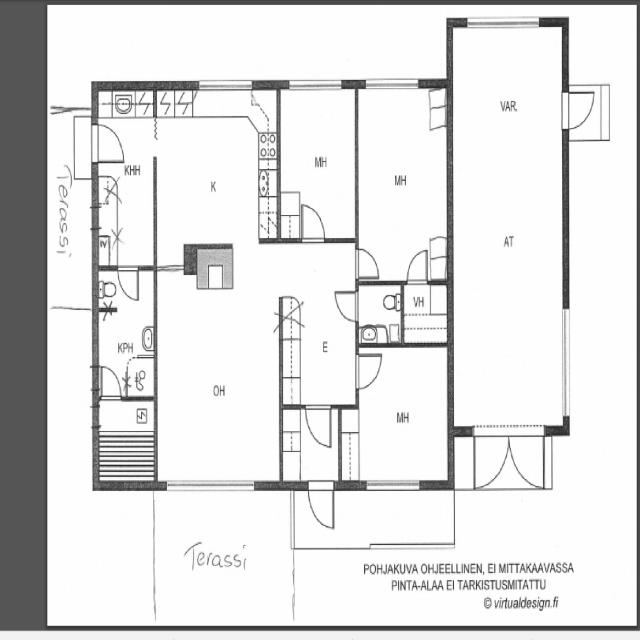door: (560, 84, 600, 134), (305, 478, 337, 534), (90, 121, 126, 168), (303, 402, 335, 452), (297, 199, 328, 246), (353, 348, 385, 393), (352, 244, 382, 282), (332, 287, 361, 325), (405, 246, 431, 287), (96, 362, 124, 400), (116, 264, 141, 304)
window: (461, 6, 544, 34), (165, 475, 258, 497), (559, 303, 573, 422), (362, 71, 425, 93), (360, 476, 427, 494), (195, 75, 260, 93), (286, 75, 346, 93), (90, 411, 103, 480), (88, 118, 101, 166)
zone: (450, 19, 567, 433), (154, 277, 283, 485), (155, 86, 278, 250), (356, 83, 450, 282), (344, 344, 452, 488), (279, 84, 357, 242), (280, 245, 356, 407), (93, 87, 156, 270), (95, 268, 156, 402), (464, 426, 552, 493), (94, 395, 158, 487), (402, 283, 451, 345), (358, 282, 402, 346)
